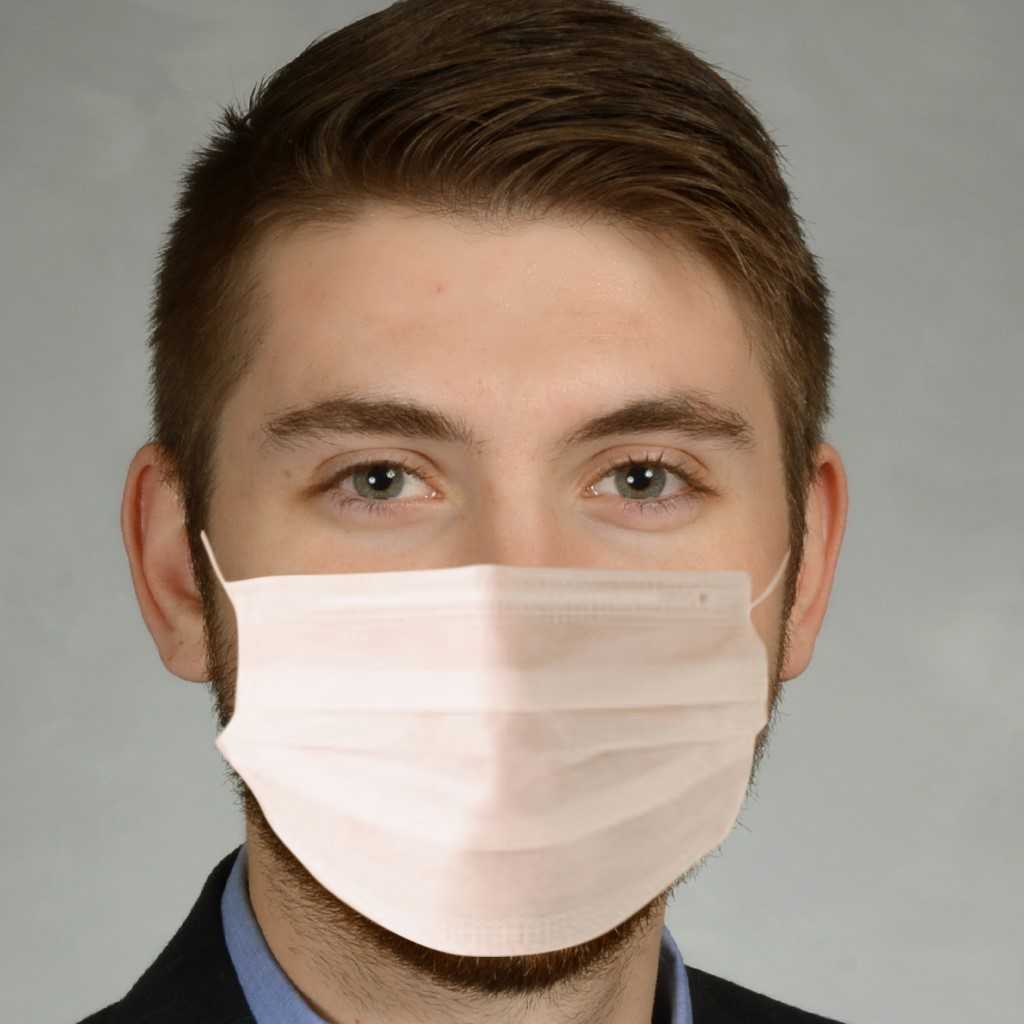con_mascara: (180, 141, 795, 960)
